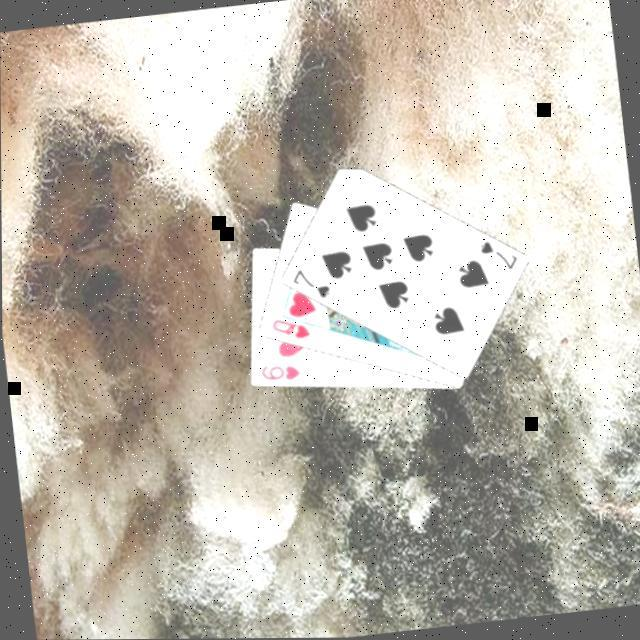6H: (258, 361, 305, 388)
7S: (288, 265, 335, 307), (476, 236, 522, 278)
QH: (268, 315, 314, 347)
